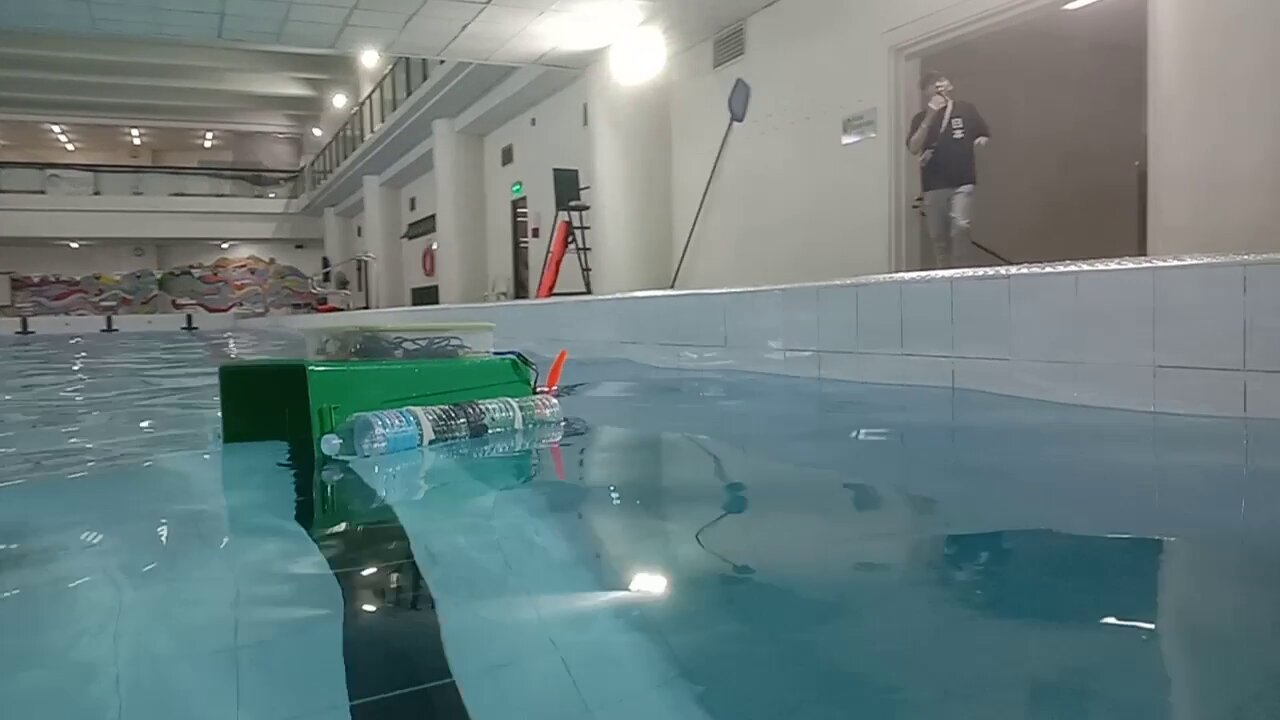drone: (218, 321, 567, 457)
